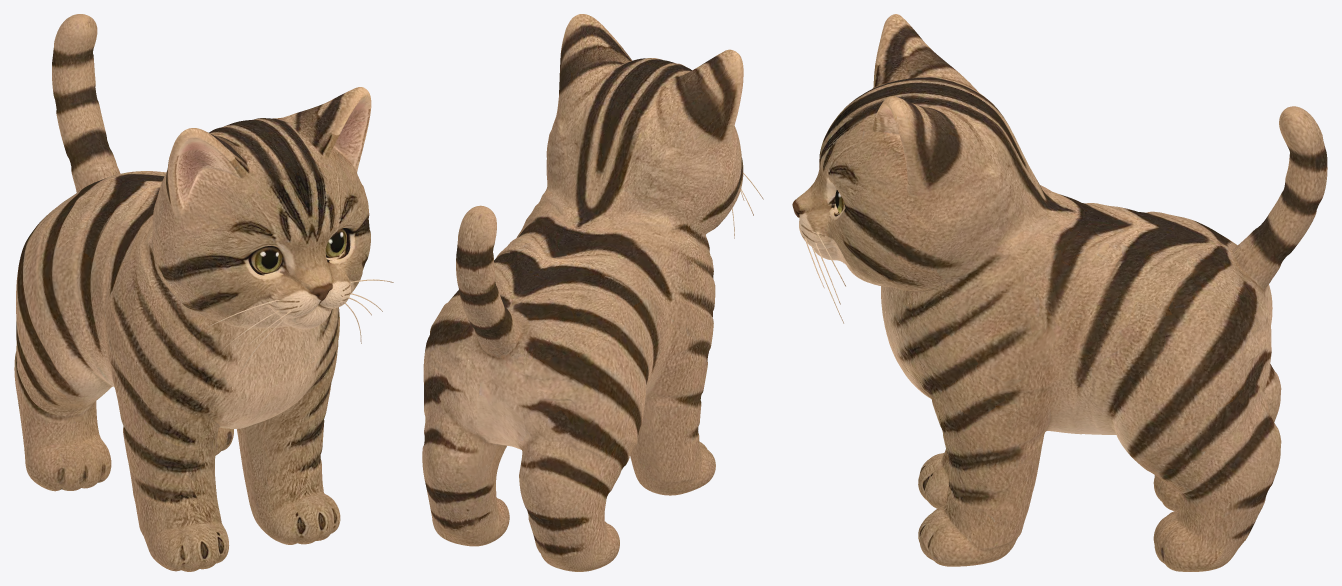
The model's file is meshy-browntabby.glb.
The picture shows the model from 3 angles, left to right: view 1: azimuth 30°, elevation 25°; view 2: azimuth 150°, elevation 25°; view 3: azimuth 270°, elevation 25°; orthographic projection. The views are drawn at different scales.
Visible parts, largest first — view 1: Mesh_0; view 2: Mesh_0; view 3: Mesh_0.
Boxes of the visible parts, x1,y1,x2,y2 form: Mesh_0: (14, 14, 393, 571); Mesh_0: (422, 14, 763, 571); Mesh_0: (792, 14, 1327, 571).
Bounding box in the file's own units: 0.9215 × 1.86 × 1.9.
1 material, 1 textured.
